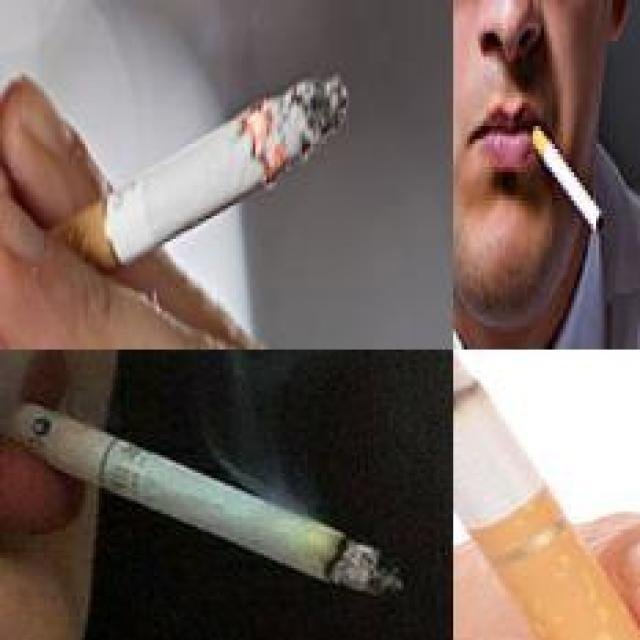cigarette: (0, 70, 352, 304), (3, 396, 404, 599), (453, 350, 637, 638), (530, 122, 607, 238)
